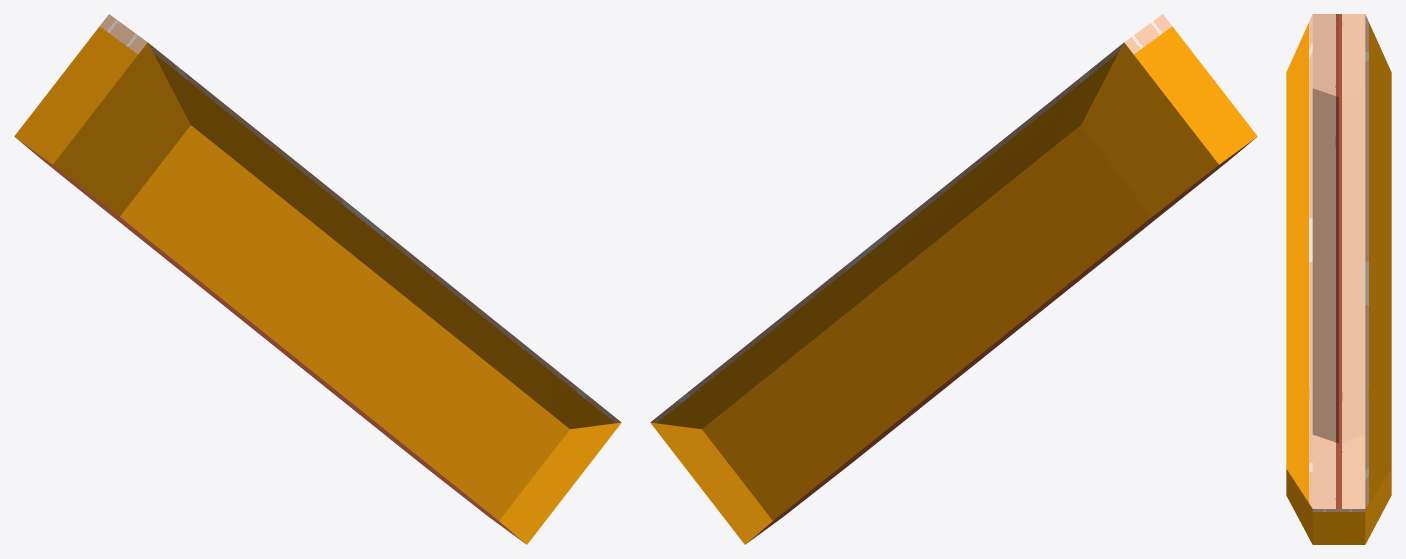
File: loaf.gltf
3 renders of one model, left to right at view 1: azimuth 30°, elevation 25°; view 2: azimuth 150°, elevation 25°; view 3: azimuth 270°, elevation 25°, orthographic. The views are drawn at different scales.
Visible parts, largest first — view 1: loaf; view 2: loaf; view 3: loaf.
Boxes of the visible parts, box(x1,y1,x2,y2) form: loaf: box(14, 14, 621, 544); loaf: box(650, 14, 1257, 544); loaf: box(1286, 14, 1391, 544).
Size of the model in its own units: 4.24 by 4.24 by 1.
1 material, 1 textured.
